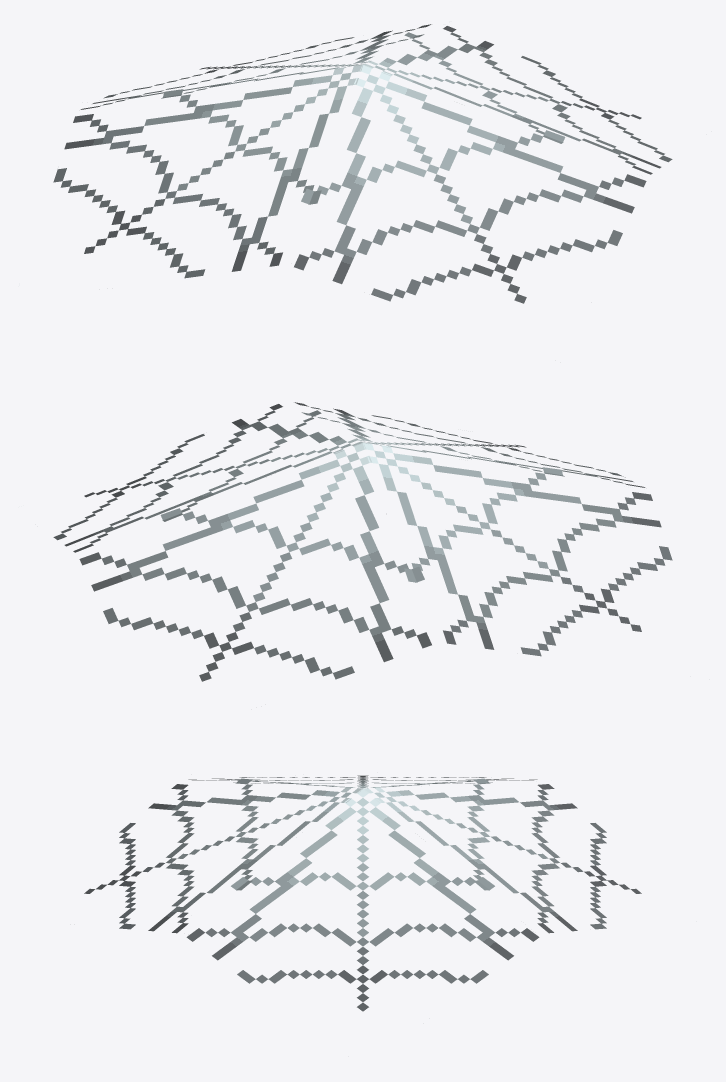
File: spider-web.gltf
3 renders of one model, top to bottom at view 1: azimuth 30°, elevation 25°; view 2: azimuth 150°, elevation 25°; view 3: azimuth 270°, elevation 25°, orthographic. The views are drawn at different scales.
Parts seen in each view (by area): view 1: cube (×4); view 2: cube (×4); view 3: cube (×4).
Boxes of the visible parts, left/top/right/bottom form: cube (×4): left=53, top=24, right=672, bottom=303; cube (×4): left=53, top=402, right=672, bottom=681; cube (×4): left=84, top=775, right=641, bottom=1011.
Bounding box in the file's own units: 2.48 × 0.5135 × 2.47.
1 material, 1 textured.
